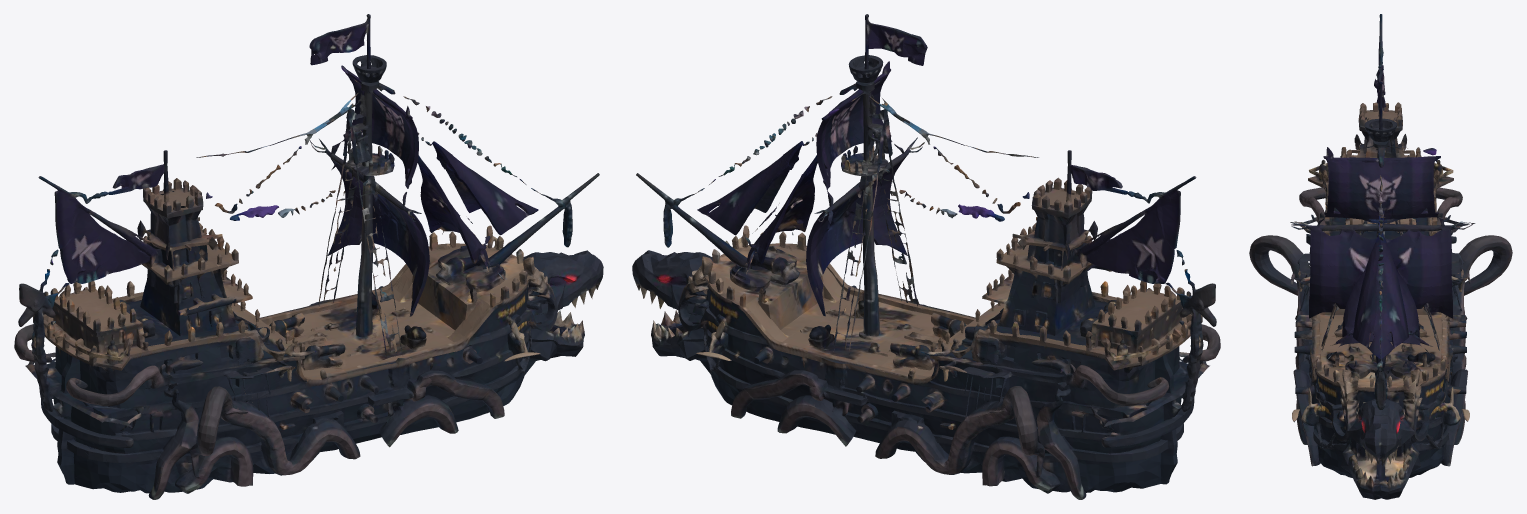
File: ship_08.glb
3 views of the same model, side by side, from view 1: azimuth 30°, elevation 25°; view 2: azimuth 150°, elevation 25°; view 3: azimuth 270°, elevation 25° (orthographic). The views are drawn at different scales.
Parts seen in each view (by area): view 1: tripo_node_6ab41bd4-8274-4559-8229-d9c06324e020; view 2: tripo_node_6ab41bd4-8274-4559-8229-d9c06324e020; view 3: tripo_node_6ab41bd4-8274-4559-8229-d9c06324e020.
Boxes of the visible parts, x1,y1,x2,y2 form: tripo_node_6ab41bd4-8274-4559-8229-d9c06324e020: [14, 14, 603, 499]; tripo_node_6ab41bd4-8274-4559-8229-d9c06324e020: [632, 14, 1220, 499]; tripo_node_6ab41bd4-8274-4559-8229-d9c06324e020: [1249, 14, 1512, 499].
Bounding box in the file's own units: 1 × 0.6535 × 0.4521.
Materials: 1 (1 with a texture image).
